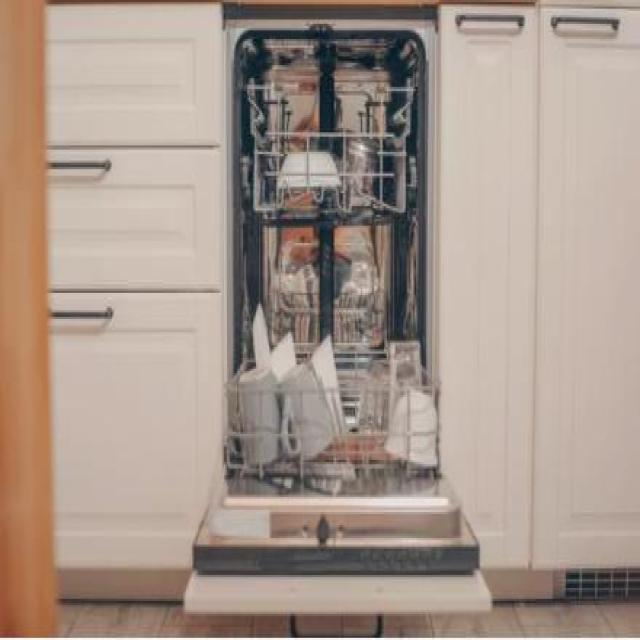dishwasher: (179, 4, 494, 620)
